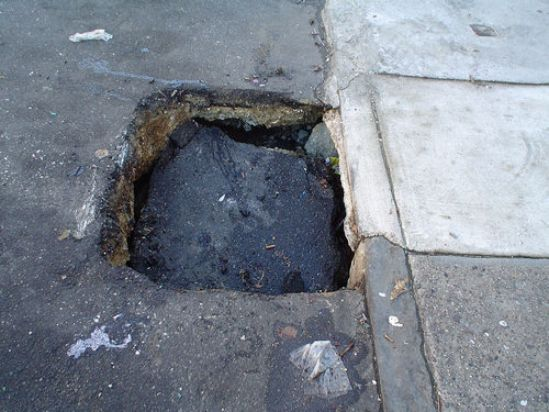pothole: (93, 81, 356, 299)
